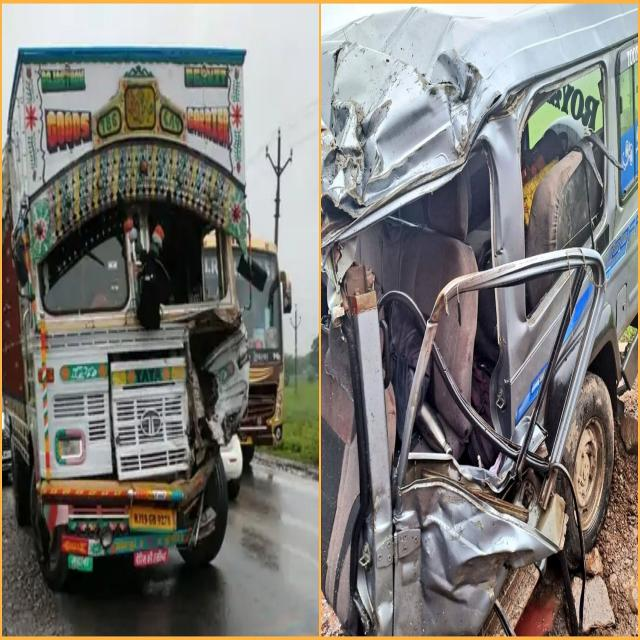accident: (320, 9, 638, 634), (2, 47, 250, 587)
